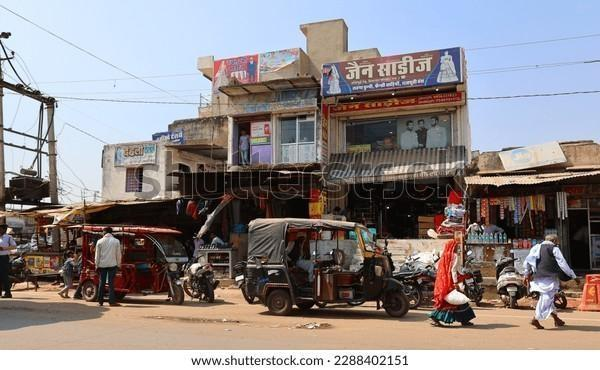keke: (250, 218, 398, 320)
